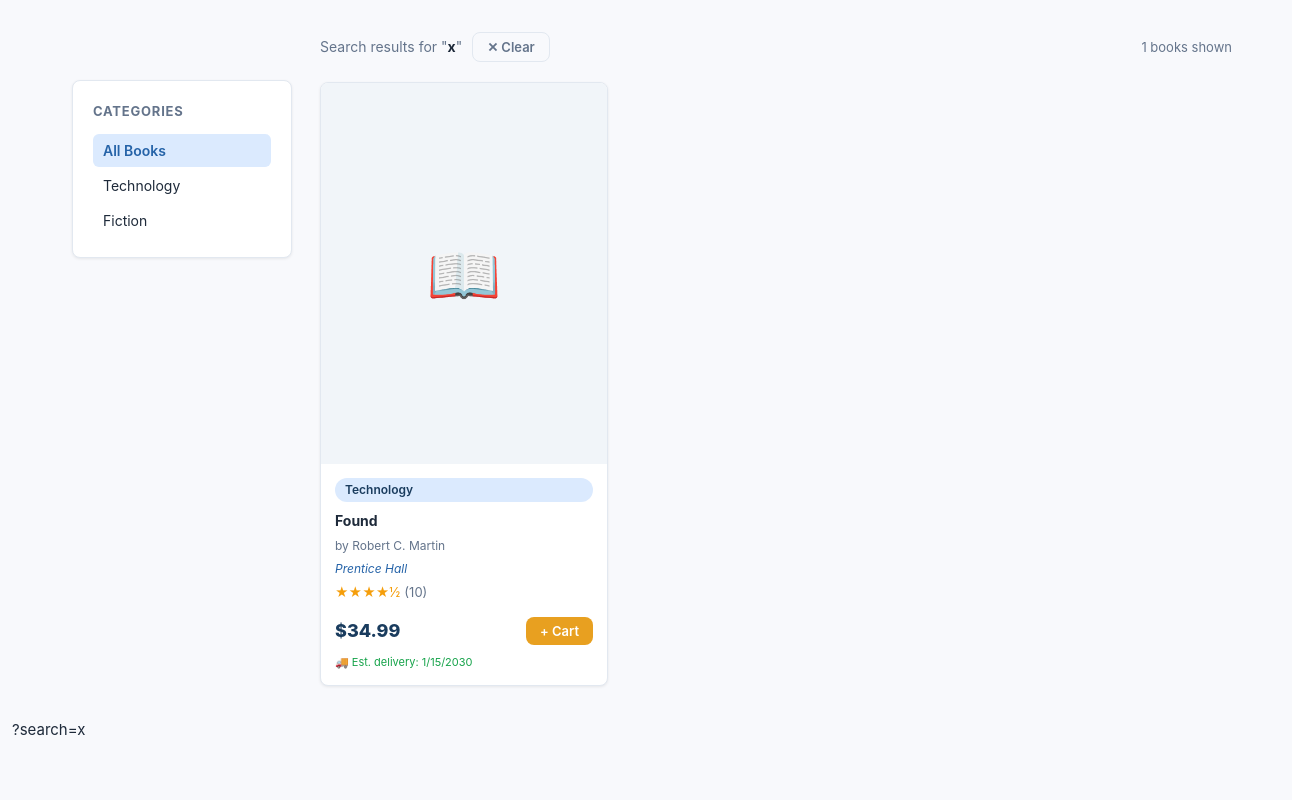
Scenario: CataloguePage › Clear resets filters back to all books
The width and height of the screenshot is (1292, 800).
Click the button "✕ Clear" at [511, 47], box [472,32,550,62]
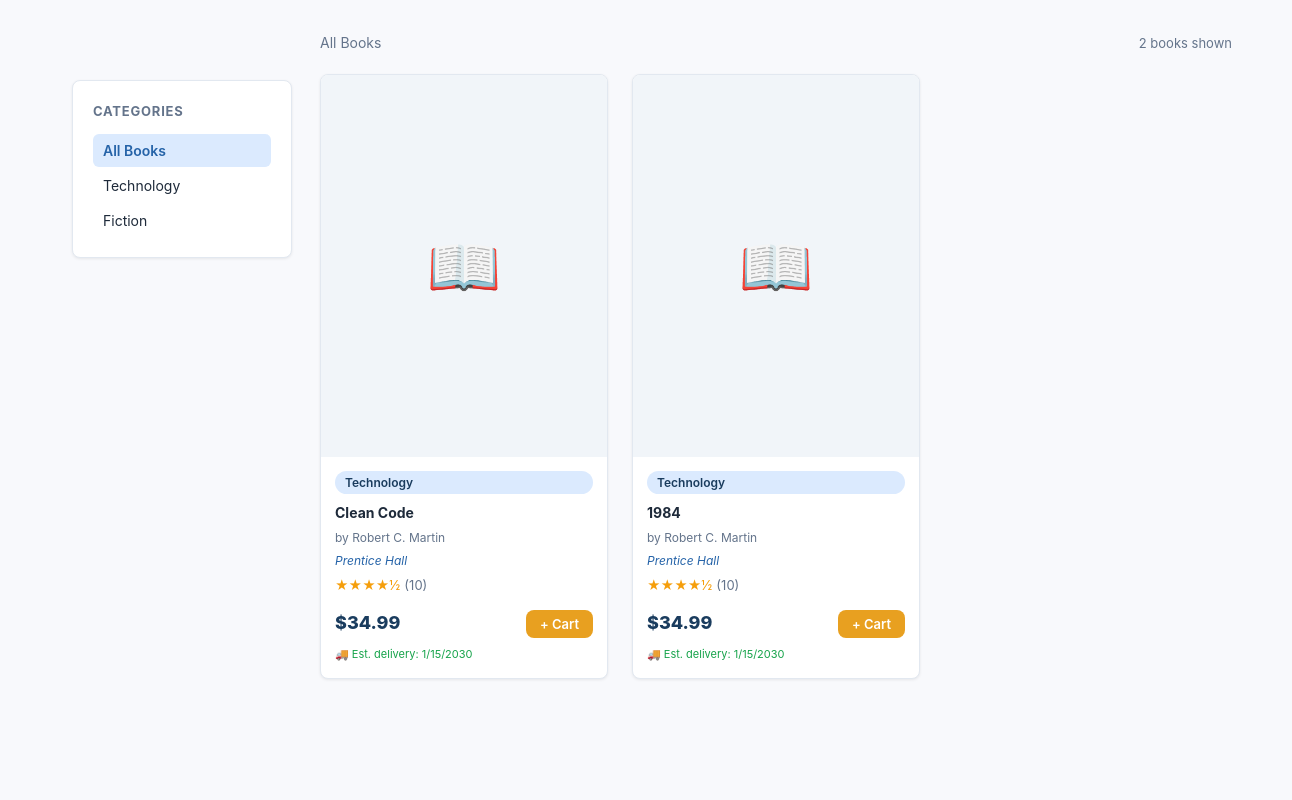
Result: the heading "1984" is shown at [647,504,681,521]
